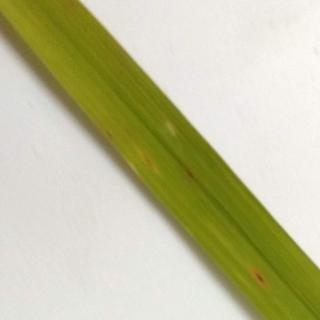bercak-Cokelat: (248, 264, 270, 292)
